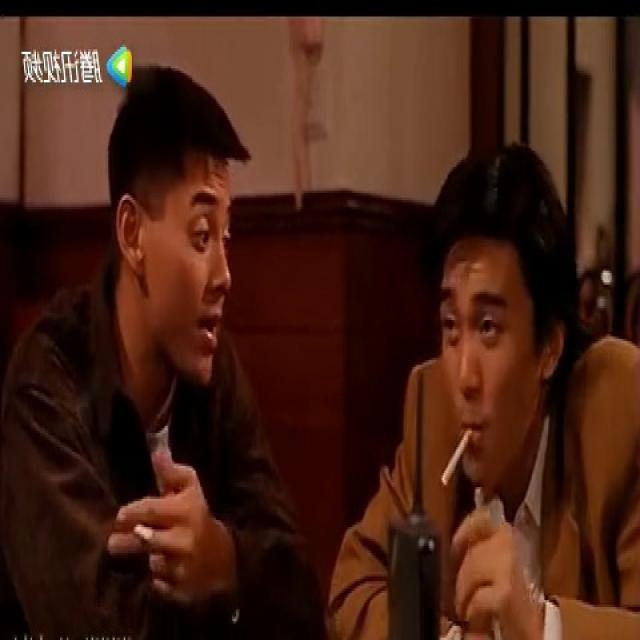smoking: (440, 424, 474, 488)
